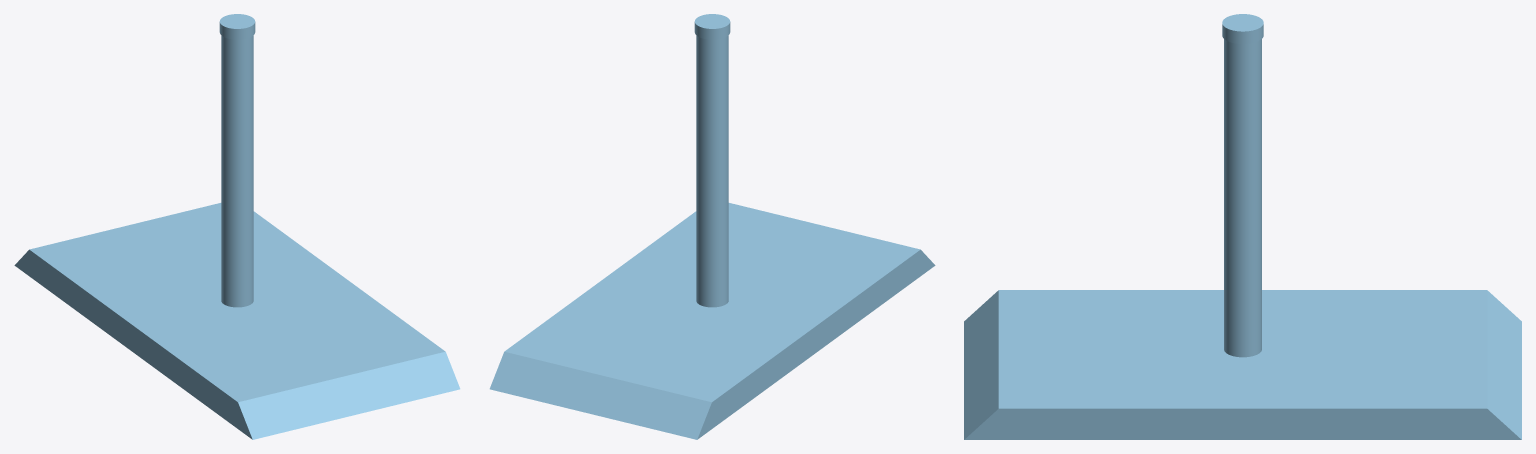
Rendered from cover.dae.
3 views of the same model, side by side, from view 1: azimuth 30°, elevation 25°; view 2: azimuth 150°, elevation 25°; view 3: azimuth 270°, elevation 25° (orthographic). The views are drawn at different scales.
Visible parts, largest first — view 1: ID2; view 2: ID2; view 3: ID2.
Part boxes in pixels (x1=…): ID2: x1=14, y1=14, x2=460, y2=439; ID2: x1=489, y1=14, x2=935, y2=439; ID2: x1=964, y1=14, x2=1521, y2=439.
Bounding box in the file's own units: 0.405 × 0.805 × 0.57.
